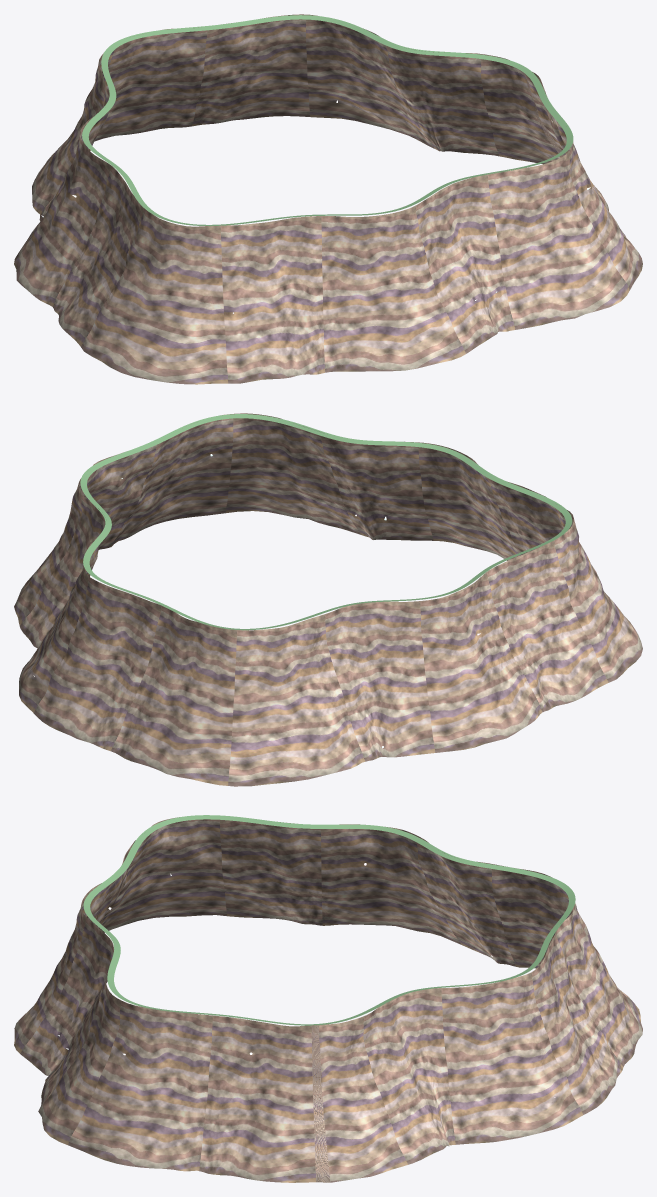
The model's file is CliffWall_plateau_west_n.glb.
The picture shows the model from 3 angles, top to bottom: view 1: azimuth 30°, elevation 25°; view 2: azimuth 150°, elevation 25°; view 3: azimuth 270°, elevation 25°; orthographic projection.
Visible parts, largest first — view 1: CliffWall_plateau_west_n-rock0, CliffWall_plateau_west_n-lip0; view 2: CliffWall_plateau_west_n-rock0, CliffWall_plateau_west_n-lip0; view 3: CliffWall_plateau_west_n-rock0, CliffWall_plateau_west_n-lip0.
Boxes of the visible parts, x1=… form: CliffWall_plateau_west_n-rock0: x1=14, y1=14, x2=642, y2=384; CliffWall_plateau_west_n-lip0: x1=82, y1=15, x2=573, y2=226; CliffWall_plateau_west_n-rock0: x1=14, y1=413, x2=642, y2=786; CliffWall_plateau_west_n-lip0: x1=80, y1=414, x2=572, y2=630; CliffWall_plateau_west_n-rock0: x1=14, y1=817, x2=642, y2=1182; CliffWall_plateau_west_n-lip0: x1=83, y1=815, x2=575, y2=1025.
Size of the model in its own units: 551 by 124 by 547.
4 materials, 1 textured.
